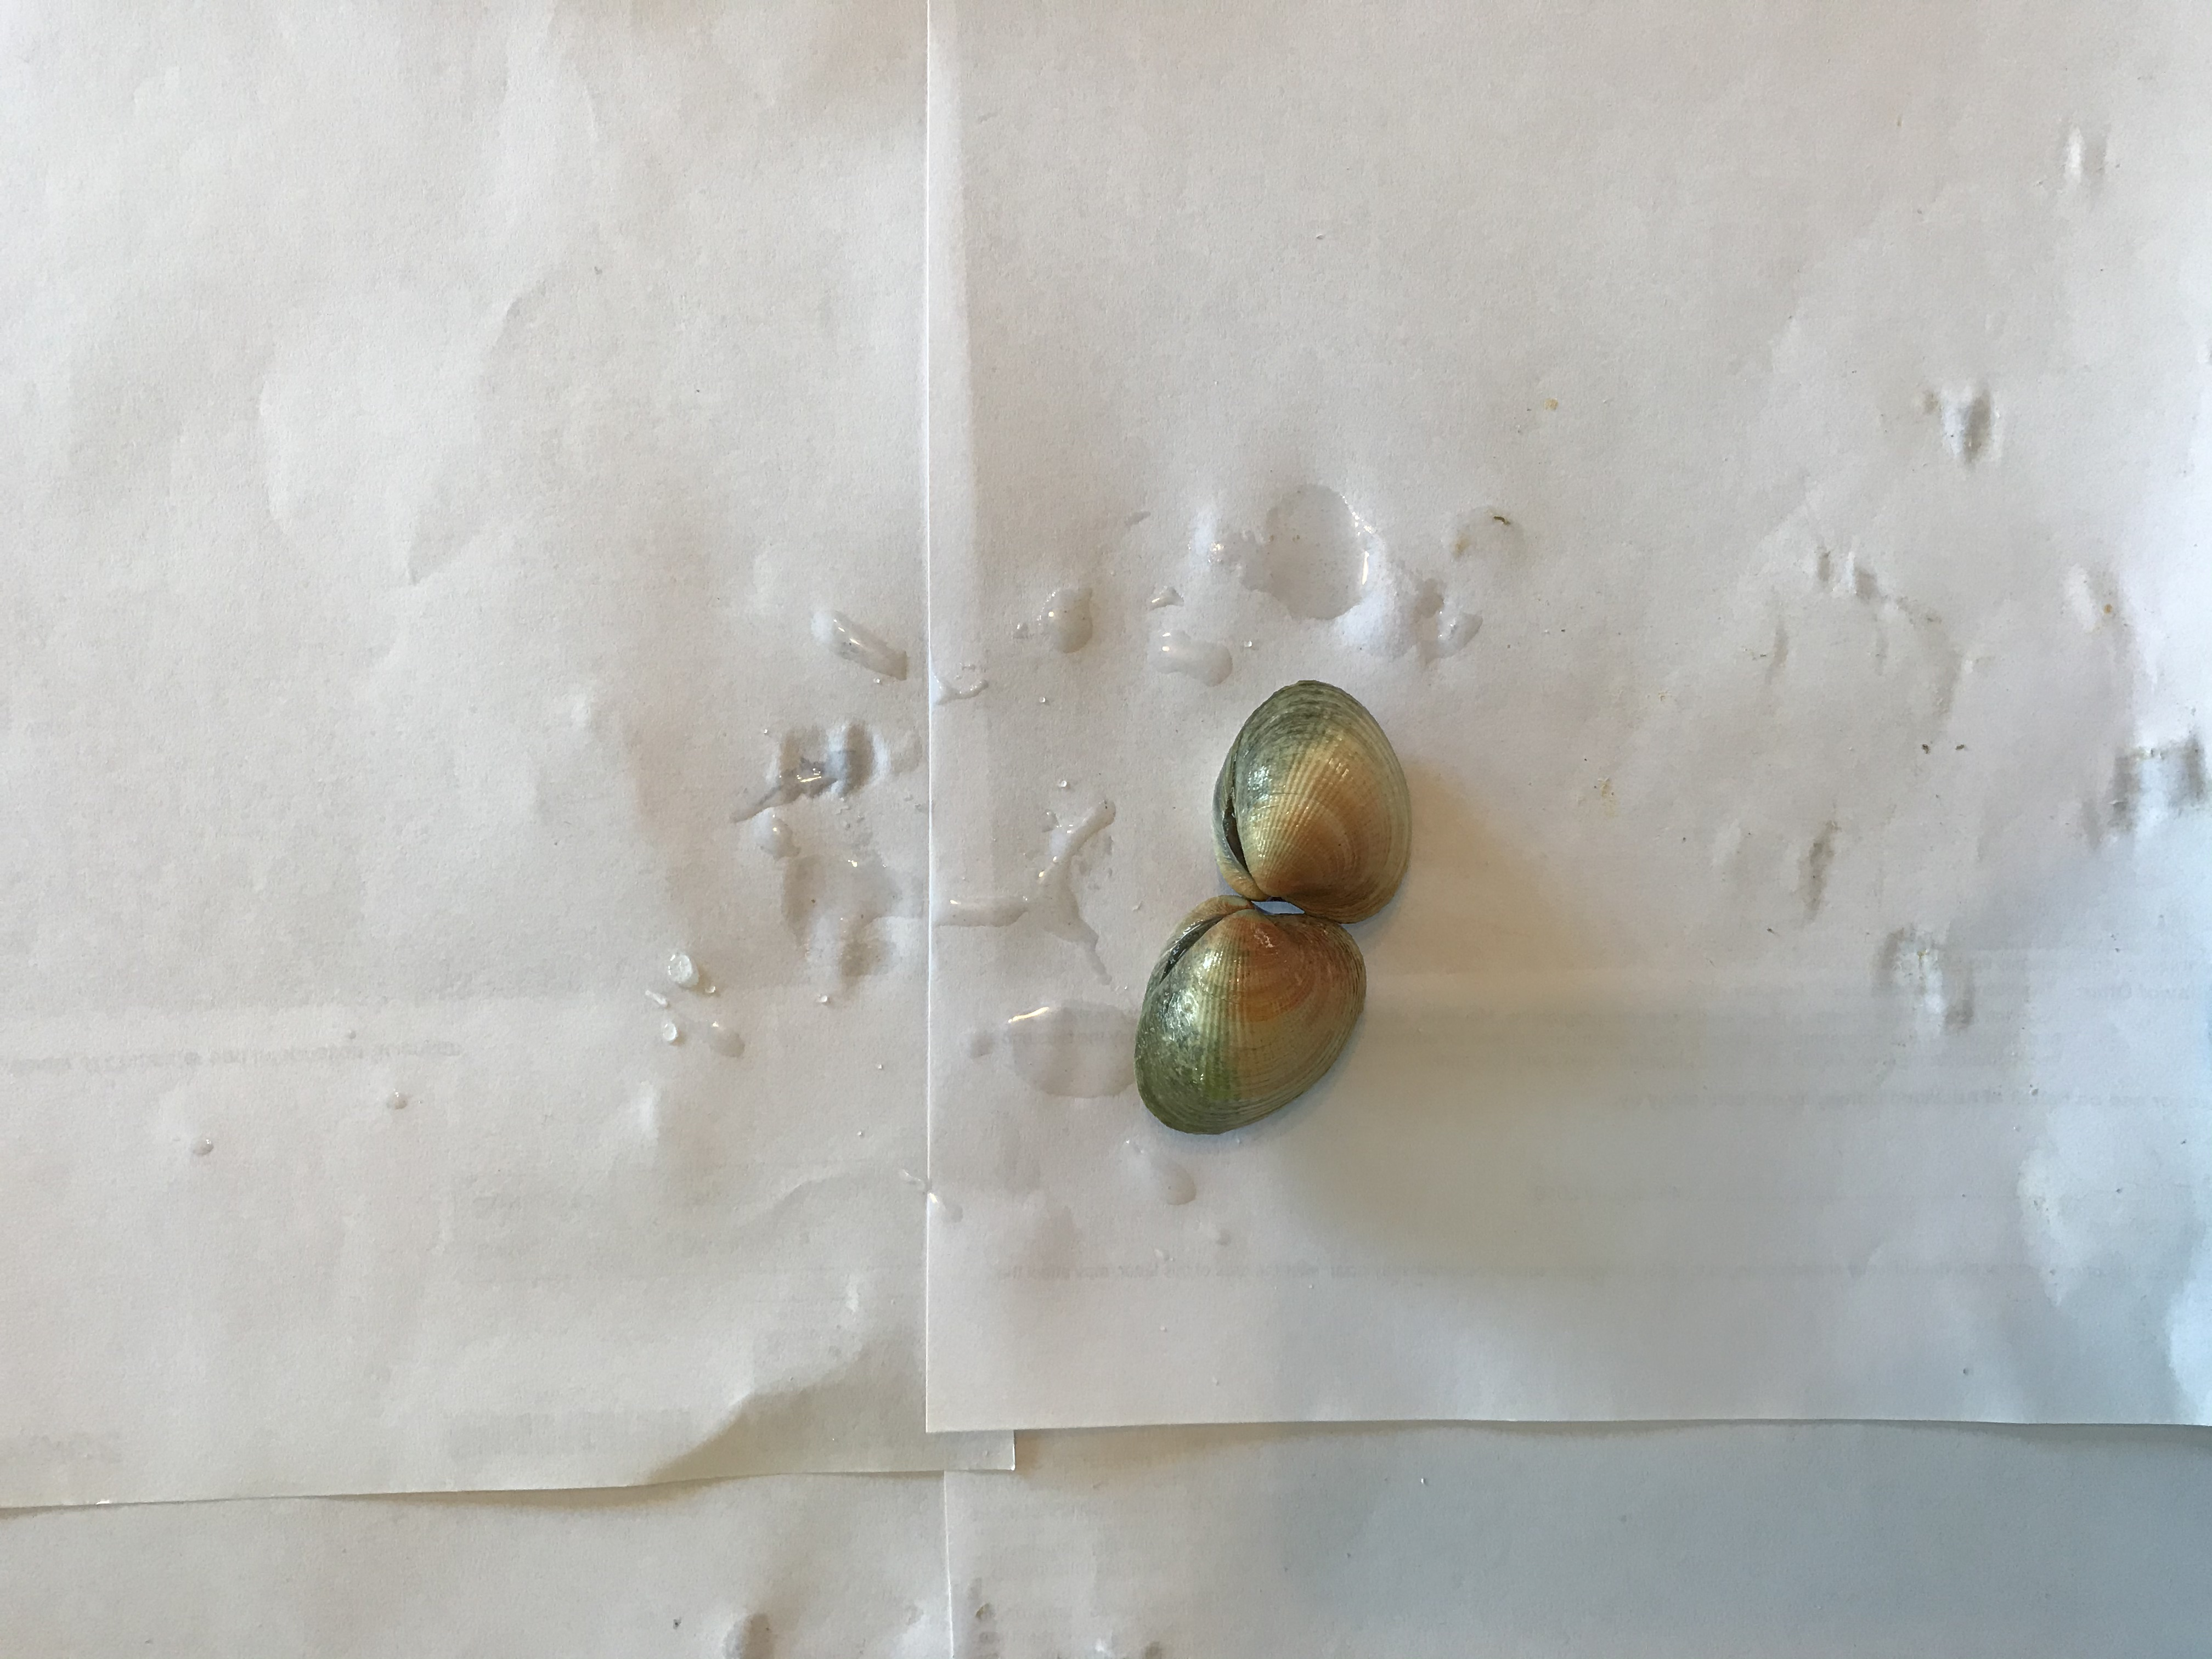cockle: (1129, 892, 1374, 1145), (1195, 673, 1421, 929)
